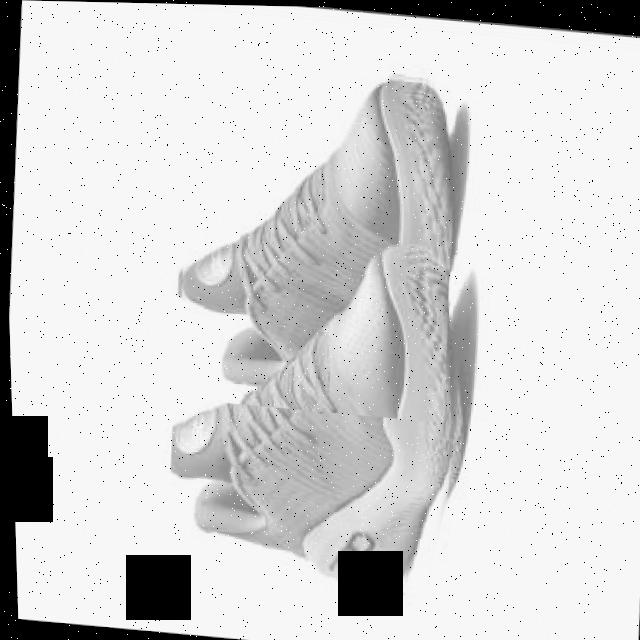shoe: (154, 214, 479, 596), (164, 50, 465, 421)
